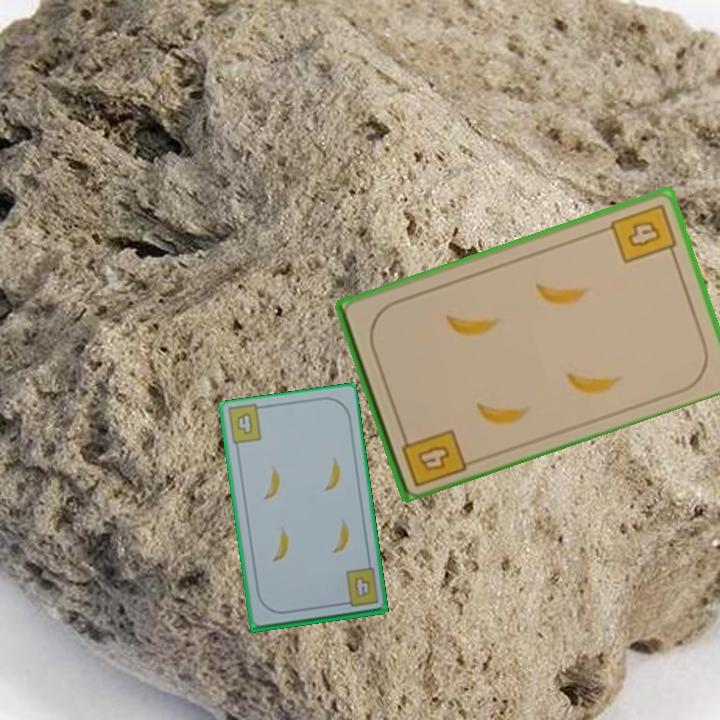4b: (607, 200, 680, 266), (397, 425, 469, 490), (337, 565, 381, 610), (233, 409, 256, 437)
